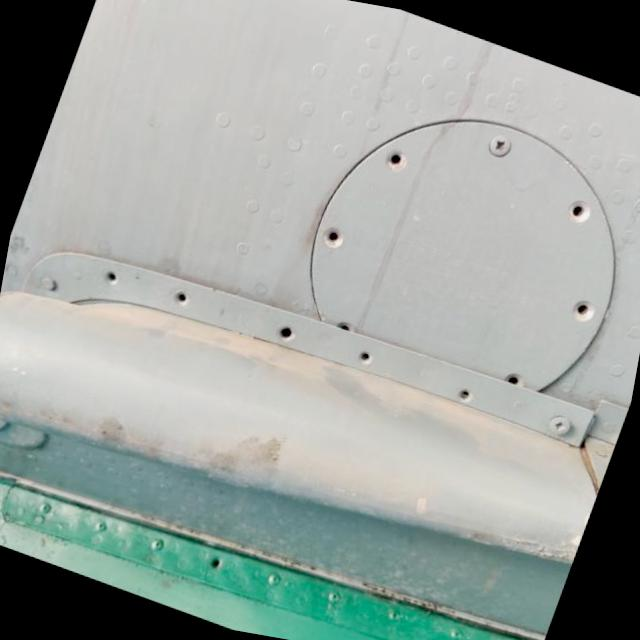Missing Fastener: (566, 198, 602, 230), (382, 145, 412, 175), (197, 551, 229, 579), (573, 298, 600, 324), (334, 316, 366, 334), (324, 226, 346, 247), (277, 322, 298, 342), (504, 370, 524, 388), (174, 288, 192, 308), (460, 386, 476, 402), (360, 350, 377, 364), (106, 268, 118, 282)
